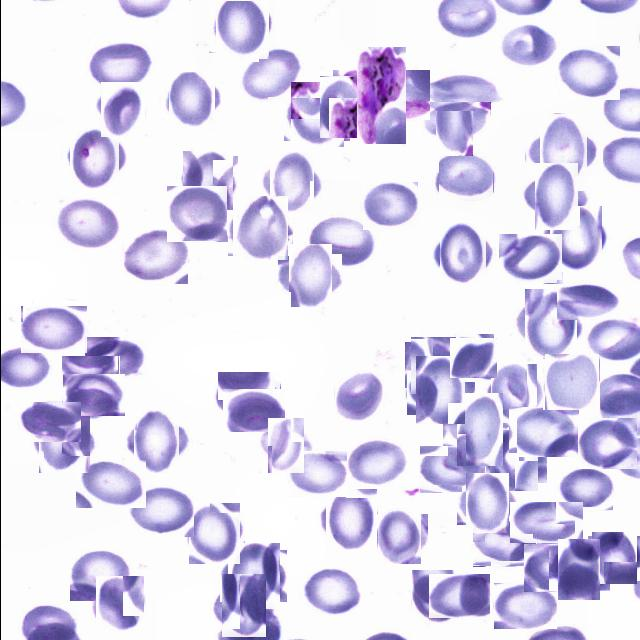red blood cell: (532, 120, 594, 183), (305, 214, 379, 266), (545, 208, 605, 268), (222, 546, 282, 606), (520, 294, 580, 354), (448, 400, 508, 460), (230, 198, 290, 258), (410, 360, 470, 420), (34, 410, 94, 470), (123, 228, 187, 284), (53, 197, 120, 250), (286, 85, 346, 144), (508, 407, 578, 457), (128, 484, 193, 537), (166, 186, 227, 242), (240, 48, 302, 103), (212, 0, 271, 57), (75, 460, 145, 508), (557, 46, 619, 100), (66, 128, 122, 186), (20, 306, 87, 354), (498, 234, 562, 284), (87, 41, 152, 90), (69, 549, 130, 601), (128, 413, 184, 469), (322, 492, 378, 548), (186, 505, 242, 561), (528, 168, 584, 224), (542, 354, 598, 410), (426, 92, 482, 148), (509, 502, 583, 544), (419, 446, 485, 493), (486, 431, 542, 486), (577, 416, 636, 468), (301, 567, 361, 617), (346, 438, 408, 486), (472, 520, 536, 566), (523, 544, 584, 592), (422, 72, 499, 110), (180, 154, 234, 208), (92, 578, 146, 632), (282, 248, 336, 302), (408, 572, 462, 626), (216, 579, 270, 633), (314, 80, 368, 134), (217, 372, 280, 418), (493, 583, 556, 629), (436, 227, 490, 280), (264, 156, 317, 210), (164, 74, 217, 128), (438, 152, 493, 204), (486, 368, 540, 420), (428, 574, 490, 619), (499, 23, 558, 70), (332, 369, 384, 422), (84, 337, 146, 381), (460, 478, 512, 530), (552, 544, 604, 596), (61, 356, 119, 402), (288, 451, 346, 497), (222, 389, 284, 432), (362, 182, 417, 230), (62, 374, 124, 416), (407, 340, 458, 390), (374, 511, 424, 561), (97, 85, 147, 135), (19, 402, 80, 442), (559, 466, 613, 511), (589, 534, 638, 583), (556, 280, 616, 320), (262, 423, 308, 469), (451, 336, 495, 380)
schizont: (344, 58, 417, 132)
